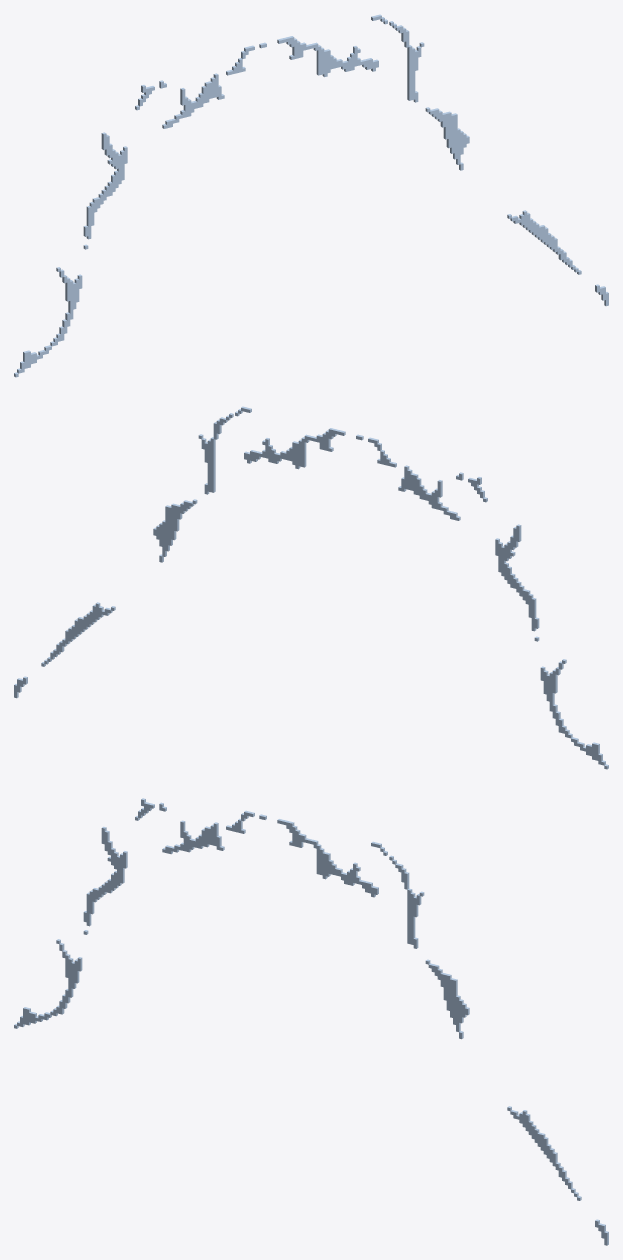
File: Fight_757_2_06_fx.obj
3 renders of one model, top to bottom at view 1: azimuth 30°, elevation 25°; view 2: azimuth 150°, elevation 25°; view 3: azimuth 330°, elevation 25°, orthographic.
Bounding box in the file's own units: 19.6 × 10.9 × 0.1.
